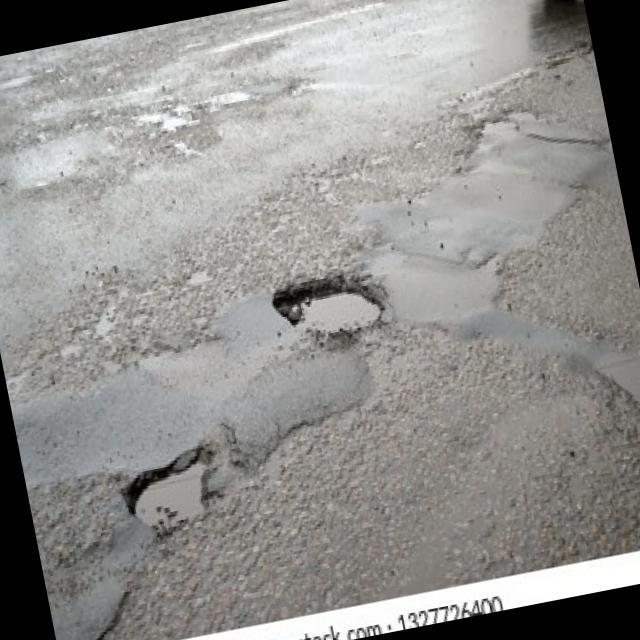Pothole: (116, 438, 228, 547), (272, 266, 388, 355)
